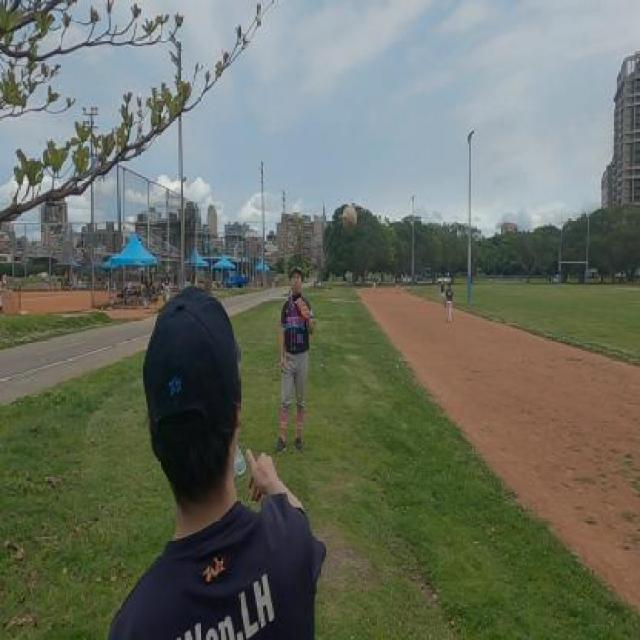baseball: (342, 206, 358, 234)
